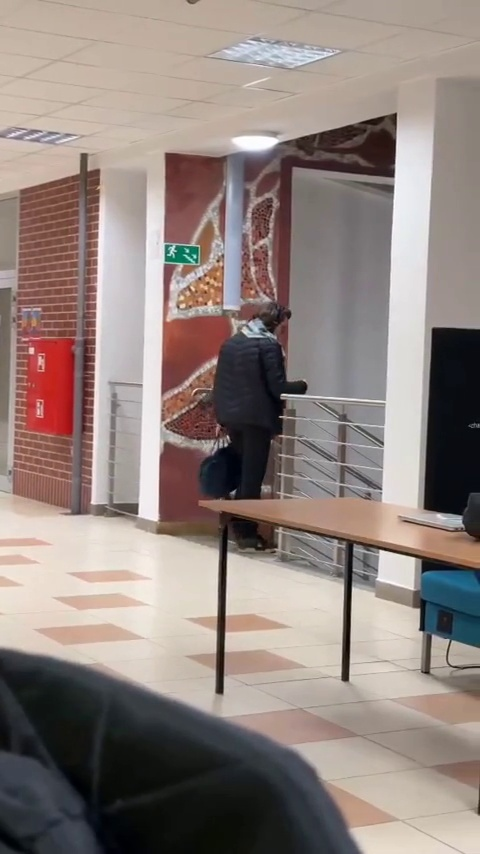no vest: (199, 292, 306, 548)
